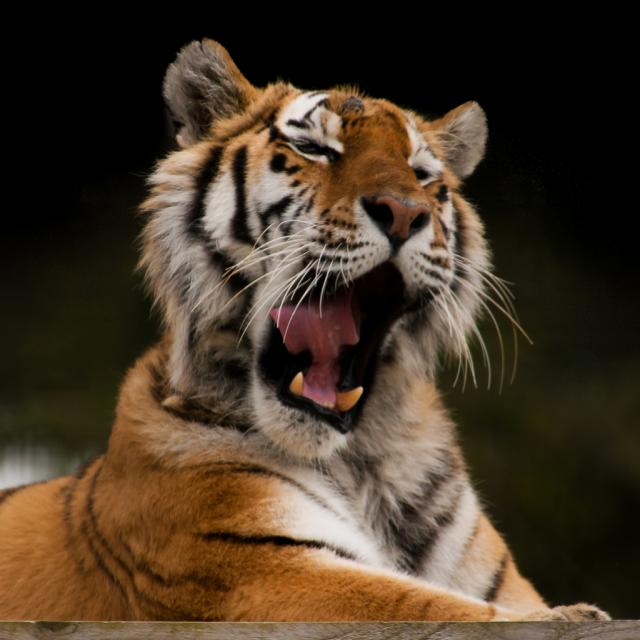Tiger: (0, 38, 608, 624)
